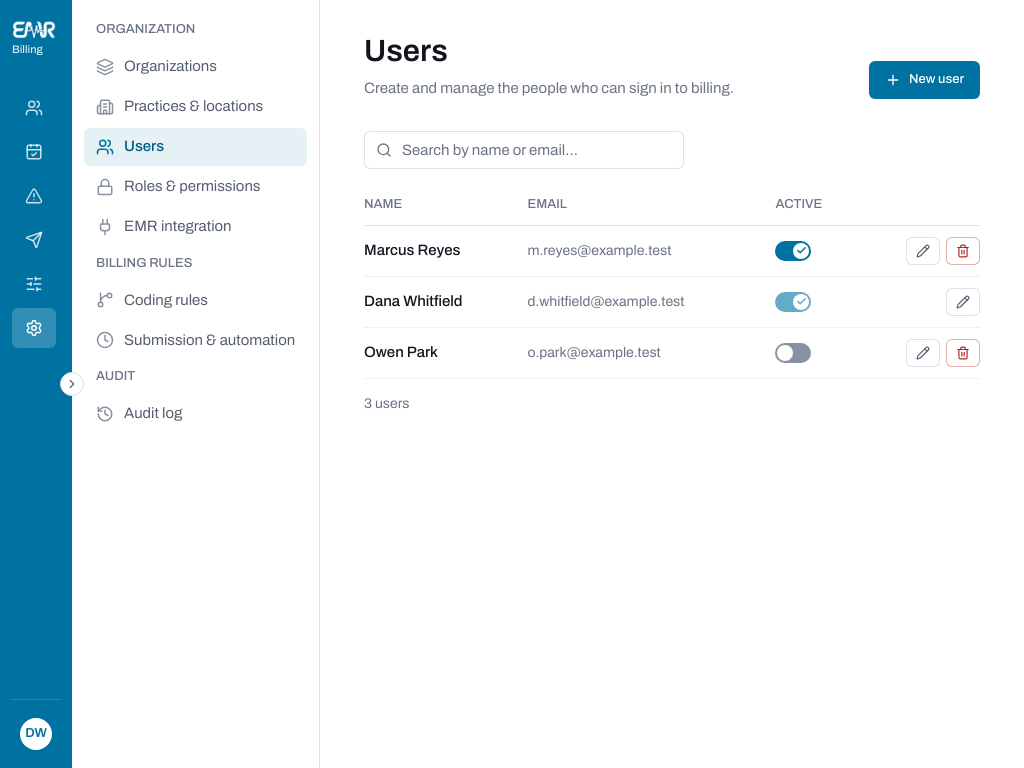
Test case: Admin → Users › shows and hides the password on request
Click the button "New user".
click(924, 80)  # box [869,61,980,99]
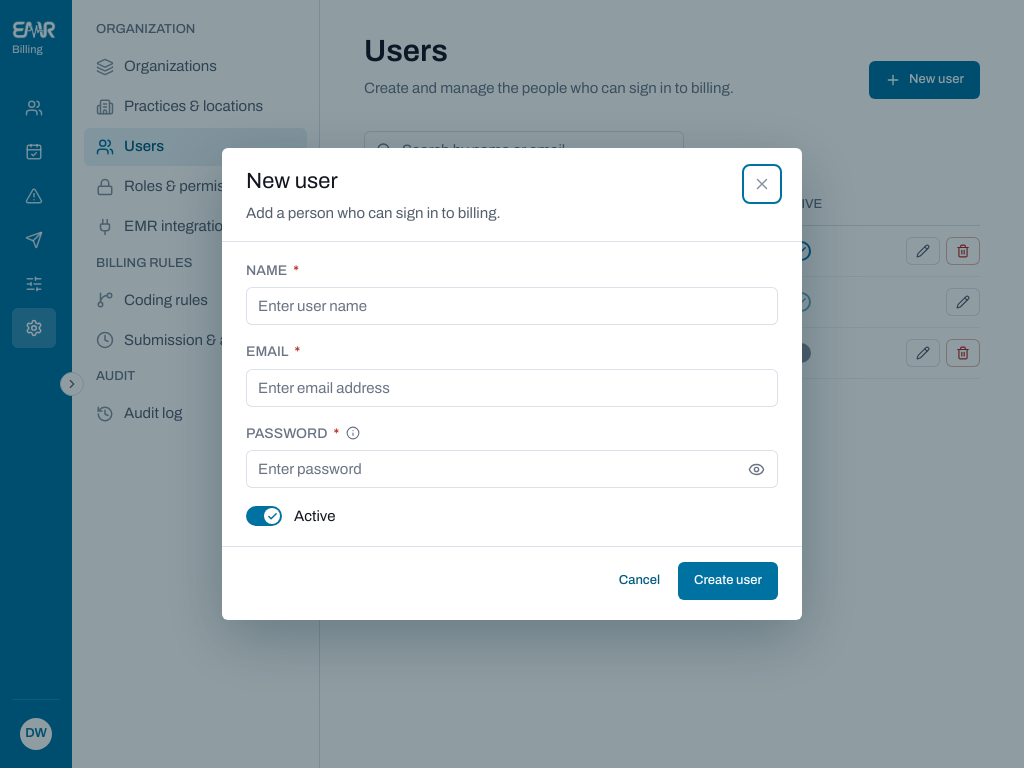
Type "Tr1cky-S3cret" into the password field labelled "Password *".
click(494, 469); type("Tr1cky-S3cret")  # box [258,450,730,488]
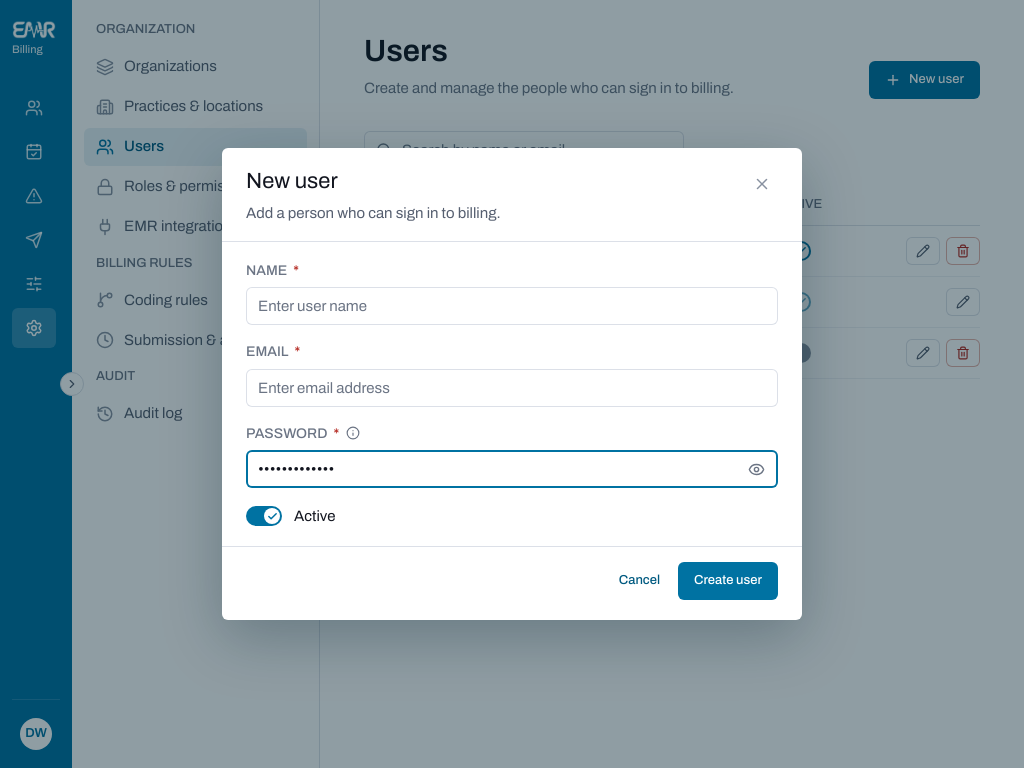
Click the button named "Show password".
click(756, 469)  # box [740,453,772,485]
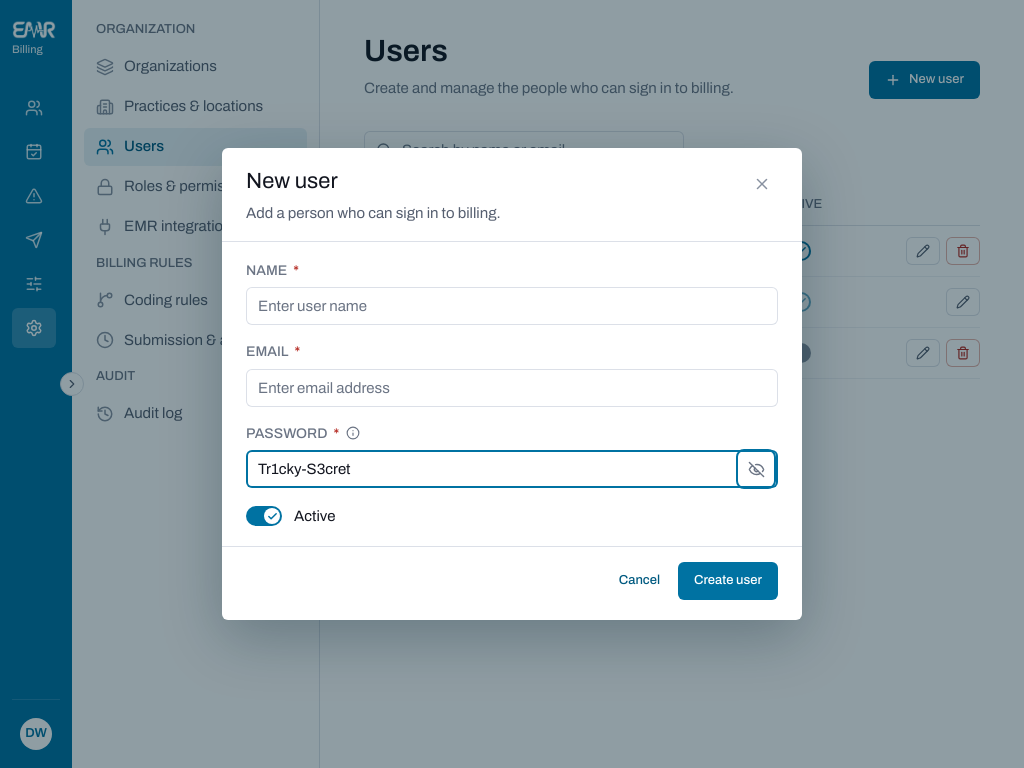
Check: the field labelled "Password *" shows its text, box [258,450,730,488]
Click the button named "Show password".
click(756, 469)  # box [740,453,772,485]
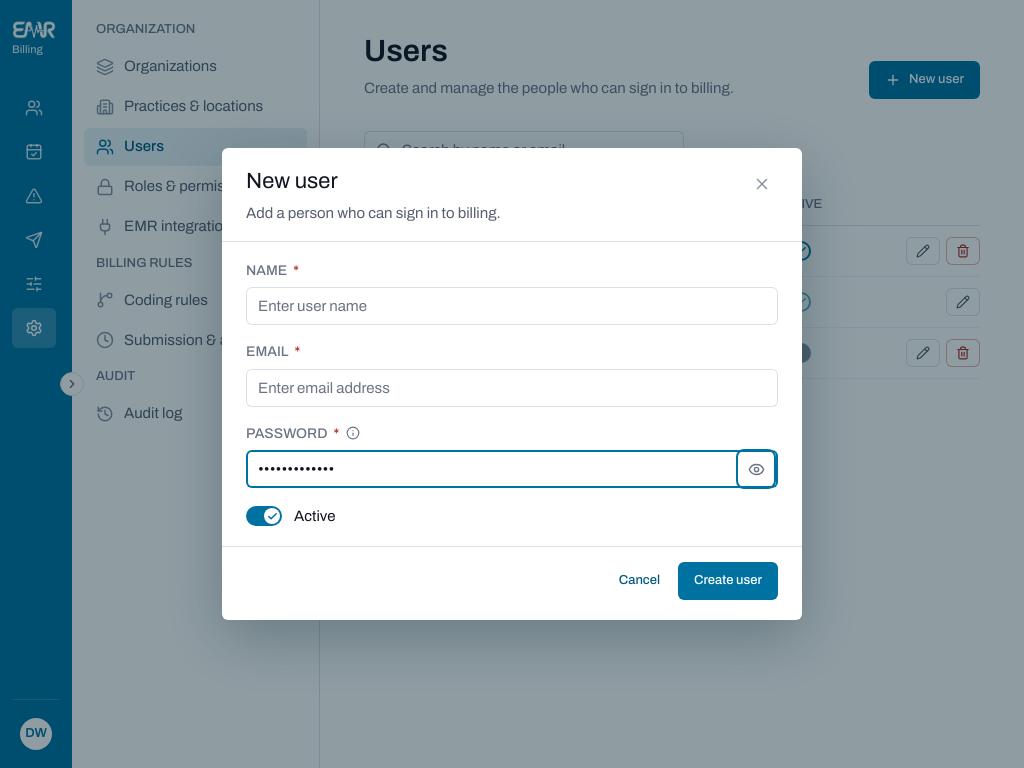
Check: the password field labelled "Password *" hides its text, box [258,450,730,488]
